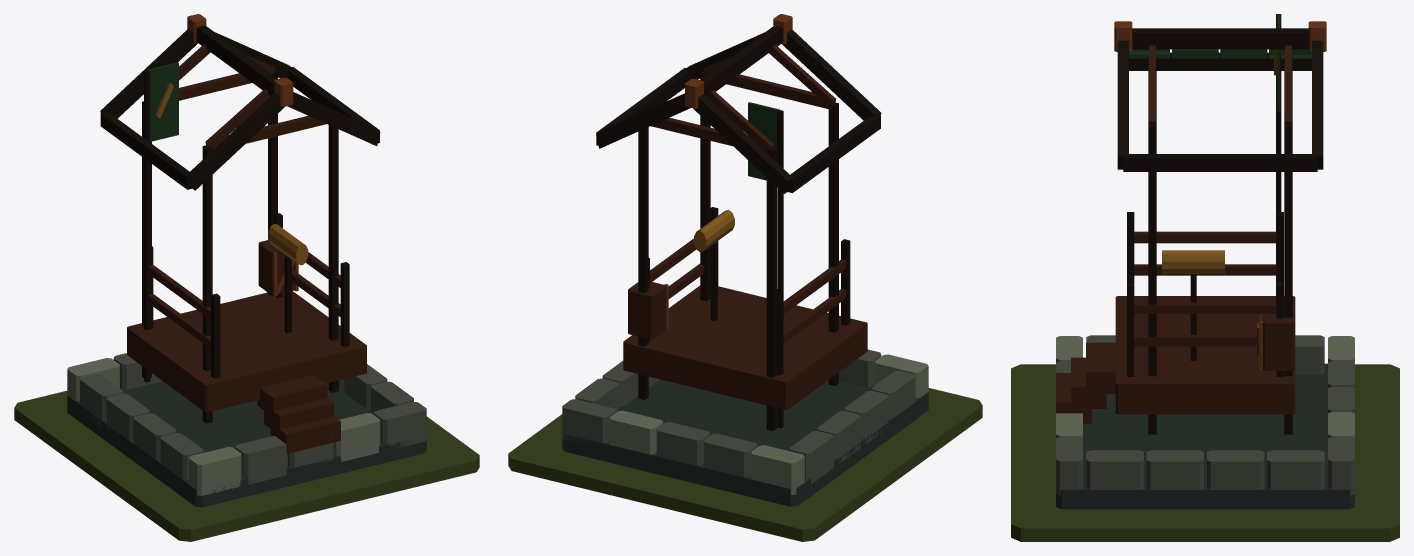
File: scout_post_t6.glb
3 renders of one model, left to right at view 1: azimuth 30°, elevation 25°; view 2: azimuth 150°, elevation 25°; view 3: azimuth 270°, elevation 25°, orthographic. The views are drawn at different scales.
Visible parts, largest first — view 1: MMR | scout_post | T06 Architecture.001, MMR | scout_post | Tier 06 Ground.001; view 2: MMR | scout_post | T06 Architecture.001, MMR | scout_post | Tier 06 Ground.001; view 3: MMR | scout_post | T06 Architecture.001, MMR | scout_post | Tier 06 Ground.001.
Part boxes in pixels (box(x1,y1,x2,y2)): MMR | scout_post | T06 Architecture.001: box(67, 14, 426, 507); MMR | scout_post | Tier 06 Ground.001: box(14, 390, 479, 541); MMR | scout_post | T06 Architecture.001: box(562, 14, 928, 506); MMR | scout_post | Tier 06 Ground.001: box(508, 388, 982, 541); MMR | scout_post | T06 Architecture.001: box(1056, 14, 1354, 509); MMR | scout_post | Tier 06 Ground.001: box(1011, 364, 1399, 541).
Bounding box in the file's own units: 1.3 × 1.61 × 1.3.
Materials: 1 (1 with a texture image).
